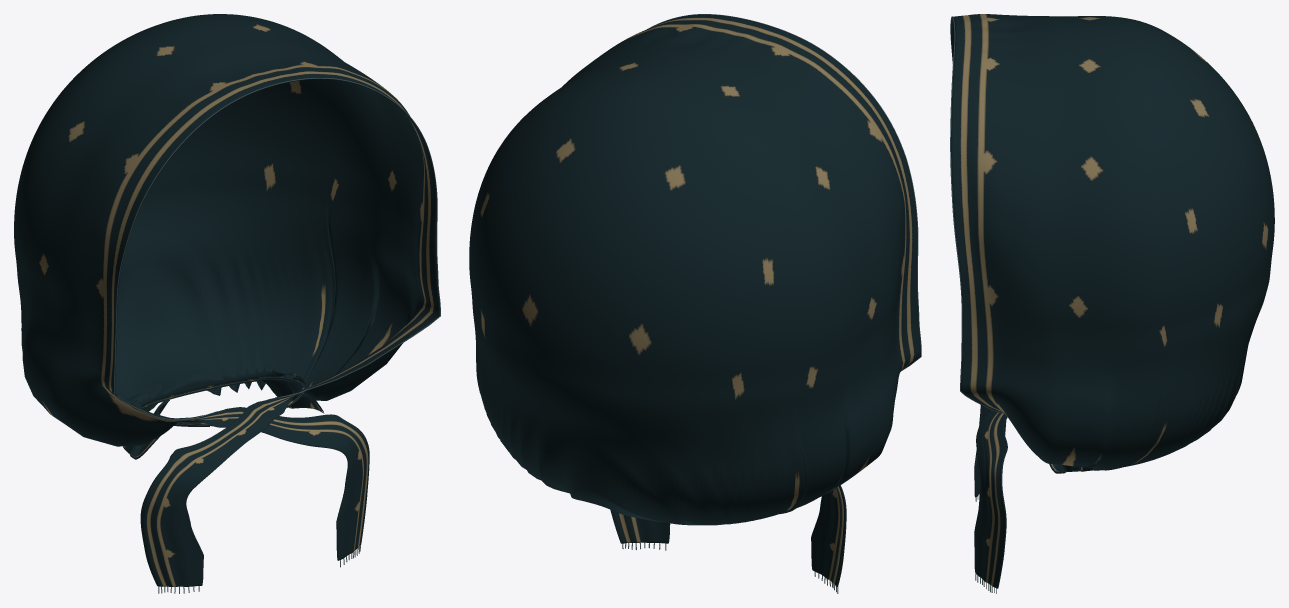
File: Masculine-Masculine-middle-part-tshirt-pashmina250-headgear-f8bb9be2.glb
3 views of the same model, side by side, from view 1: azimuth 30°, elevation 25°; view 2: azimuth 150°, elevation 25°; view 3: azimuth 270°, elevation 25° (orthographic). The views are drawn at different scales.
Visible parts, largest first — view 1: 226 headgear / Headwear / continuous woven pashmina239, 226 headgear / Headwear / face edge239; view 2: 226 headgear / Headwear / continuous woven pashmina239, 226 headgear / Headwear / face edge239; view 3: 226 headgear / Headwear / continuous woven pashmina239, 226 headgear / Headwear / face edge239.
Boxes of the visible parts, x1,y1,x2,y2 form: 226 headgear / Headwear / continuous woven pashmina239: (14,14,439,586); 226 headgear / Headwear / face edge239: (114,78,440,420); 226 headgear / Headwear / continuous woven pashmina239: (469,14,920,586); 226 headgear / Headwear / face edge239: (648,14,921,371); 226 headgear / Headwear / continuous woven pashmina239: (951,14,1274,588); 226 headgear / Headwear / face edge239: (950,16,1004,413).
Bounding box in the file's own units: 0.9063 × 1.23 × 0.7056.
3 materials, 1 textured.
